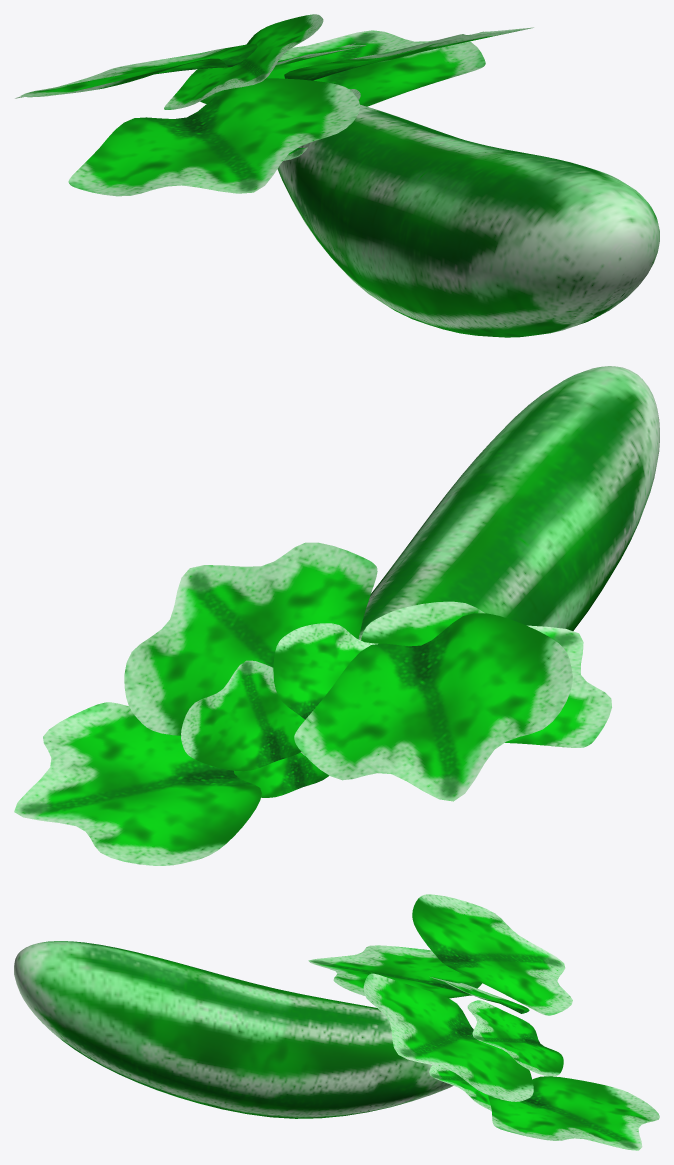
File: Massive Marrow.fbx
3 views of the same model, one above another, from view 1: azimuth 30°, elevation 25°; view 2: azimuth 150°, elevation 25°; view 3: azimuth 270°, elevation 25° (orthographic). The views are drawn at different scales.
Visible parts, largest first — view 1: Massive Marrow; view 2: Massive Marrow; view 3: Massive Marrow.
Boxes of the visible parts, <box> form: Massive Marrow: <box>15,14,659,337</box>; Massive Marrow: <box>14,366,659,865</box>; Massive Marrow: <box>14,894,659,1150</box>.
Bounding box in the file's own units: 1.12 × 0.5285 × 1.85.
